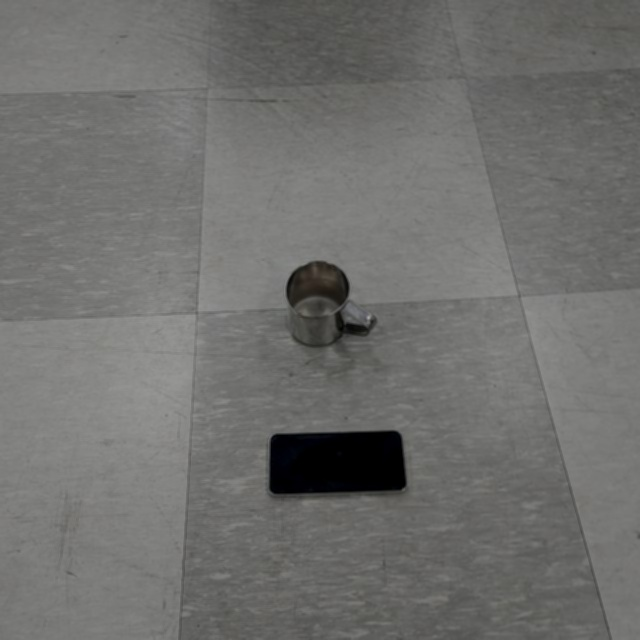cup: (286, 258, 376, 347)
phone: (269, 431, 408, 497)
